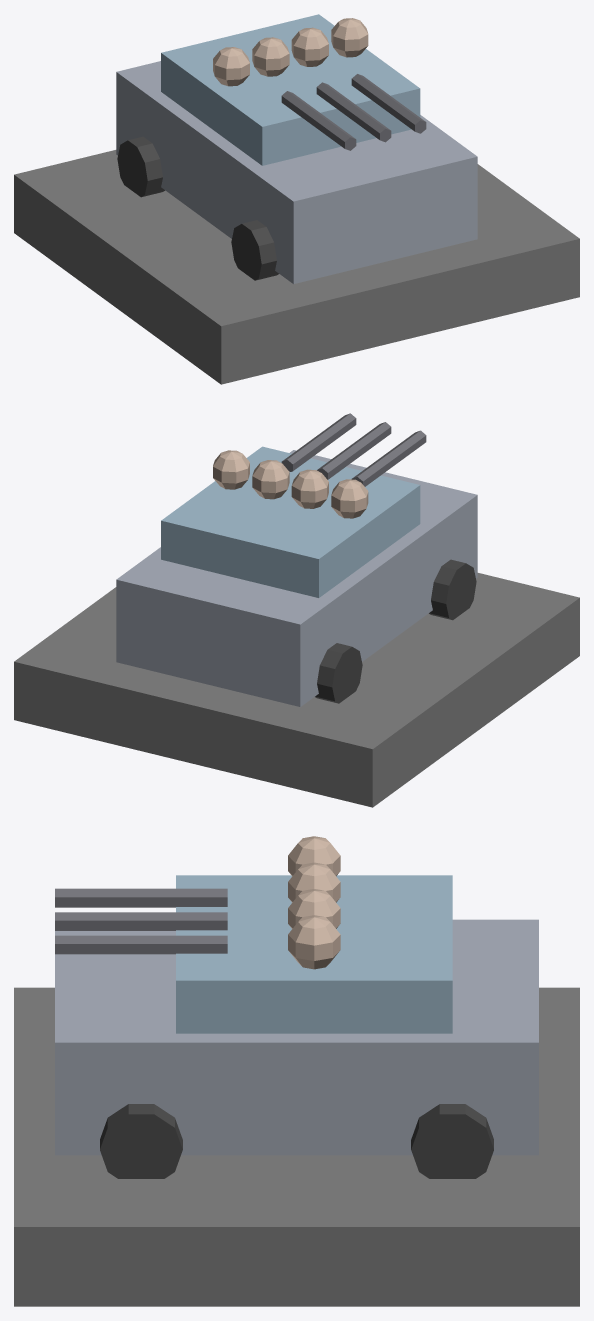
File: human_minivan.glb
3 views of the same model, one above another, from view 1: azimuth 30°, elevation 25°; view 2: azimuth 150°, elevation 25°; view 3: azimuth 270°, elevation 25° (orthographic). The views are drawn at different scales.
Parts seen in each view (by area): view 1: TurretMesh, Base, GunsMesh; view 2: TurretMesh, Base, GunsMesh; view 3: TurretMesh, Base, GunsMesh.
Boxes of the visible parts, bbox=[...] form: TurretMesh: bbox=[116, 14, 477, 283]; Base: bbox=[14, 150, 579, 384]; GunsMesh: bbox=[281, 74, 426, 150]; TurretMesh: bbox=[116, 446, 477, 706]; Base: bbox=[14, 573, 579, 807]; GunsMesh: bbox=[281, 413, 426, 486]; TurretMesh: bbox=[55, 836, 538, 1178]; Base: bbox=[14, 987, 579, 1306]; GunsMesh: bbox=[55, 888, 227, 954].
Bounding box in the file's own units: 1.8 × 1.09 × 1.8.
